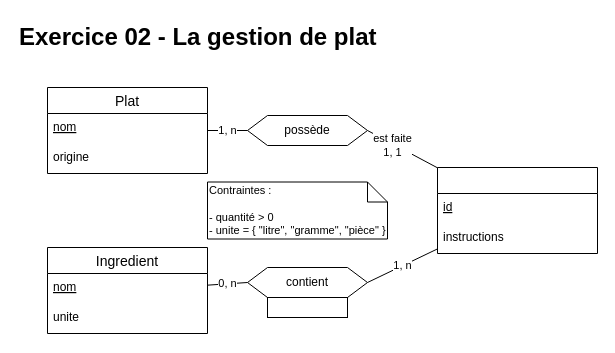
This 615x353 diagram has some shape labels left out. The shapes that lost their labels are listed below. From the top down, each one's box as (x1, y1, x2, y2) in pixels, then its label:
(436, 166, 598, 254): Recette
(266, 296, 348, 318): quantite
